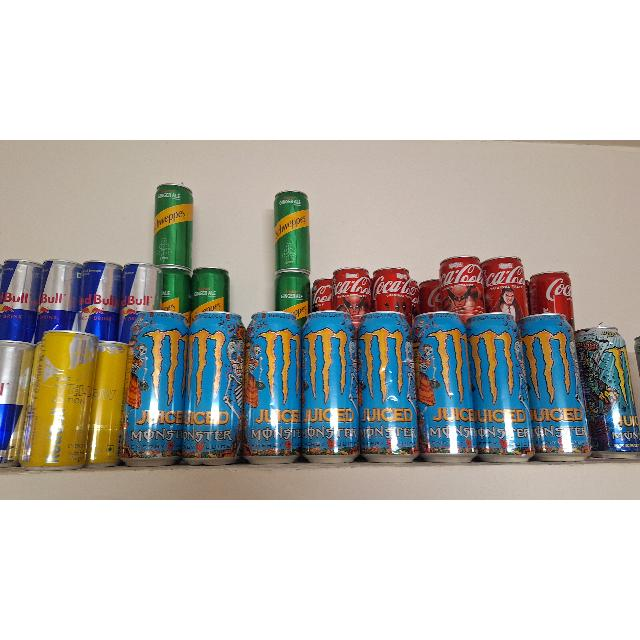Coca Cola: (420, 280, 440, 310)
Coca Cola - Marvel: (442, 255, 484, 312), (484, 258, 524, 312), (331, 268, 371, 314), (530, 275, 574, 315), (374, 268, 410, 312), (314, 281, 331, 313), (411, 280, 421, 310)
Monster Aussie Lemonade: (578, 326, 640, 456)
Monster Mango Loco: (524, 313, 590, 463), (468, 316, 532, 458), (127, 311, 183, 464), (364, 310, 421, 460), (186, 310, 242, 462), (305, 314, 361, 460), (414, 313, 470, 457), (246, 312, 298, 462)
Redbull: (0, 338, 28, 468), (1, 260, 35, 340), (40, 262, 76, 332), (82, 262, 116, 336), (124, 266, 154, 312)
Redbull Yellow Edition: (30, 334, 90, 468), (92, 341, 126, 469)
Schweppes: (150, 182, 197, 268), (275, 191, 311, 273), (193, 269, 227, 311), (278, 274, 310, 312), (164, 268, 188, 314)
